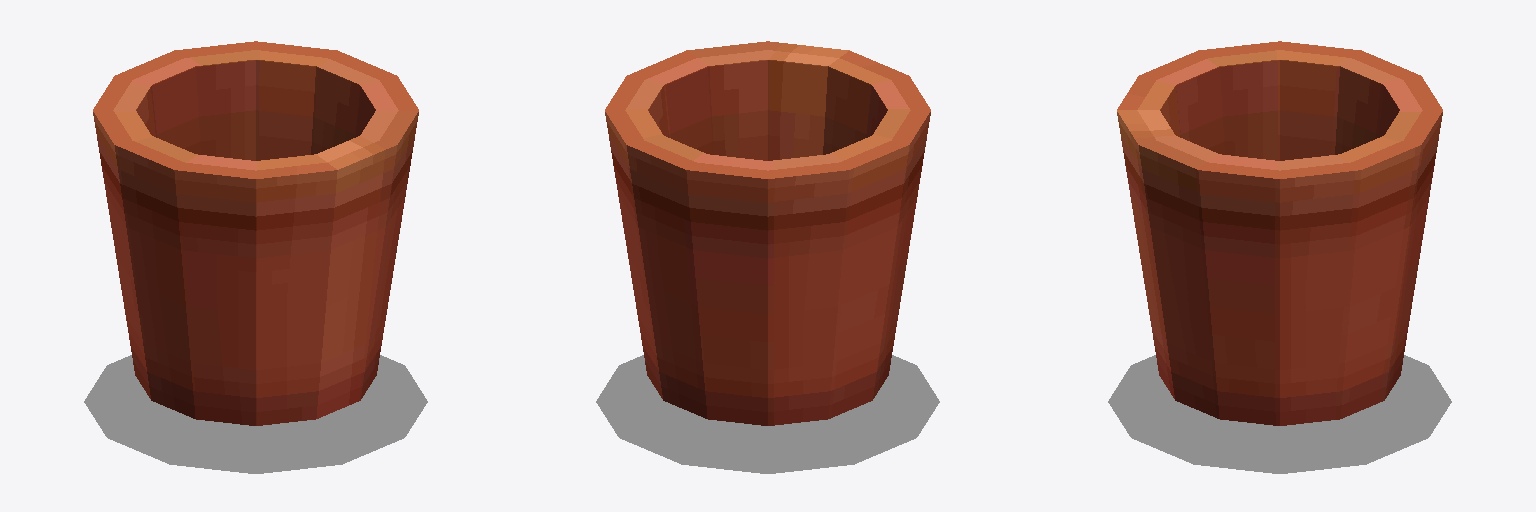
3 views of the same model, side by side, from view 1: azimuth 30°, elevation 25°; view 2: azimuth 150°, elevation 25°; view 3: azimuth 270°, elevation 25° (orthographic).
Visible parts, largest first — view 1: polySurface1.009; view 2: polySurface1.009; view 3: polySurface1.009.
Boxes of the visible parts, box(x1,y1,x2,y2) form: polySurface1.009: box(84, 41, 427, 473); polySurface1.009: box(596, 41, 939, 473); polySurface1.009: box(1108, 41, 1451, 473).
Bounding box in the file's own units: 1.45 × 1.35 × 1.45.
Materials: 2 (1 with a texture image).